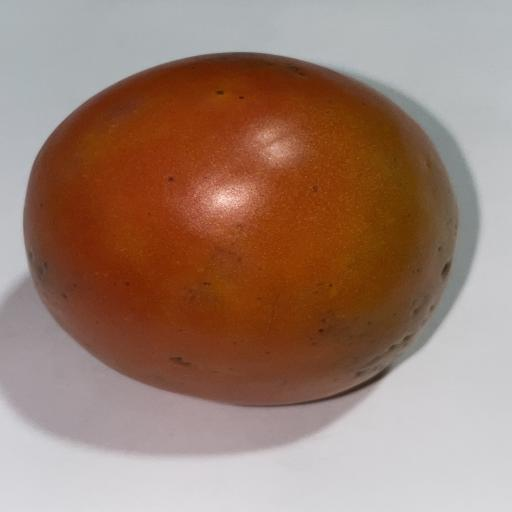unripe: (25, 53, 457, 405)
